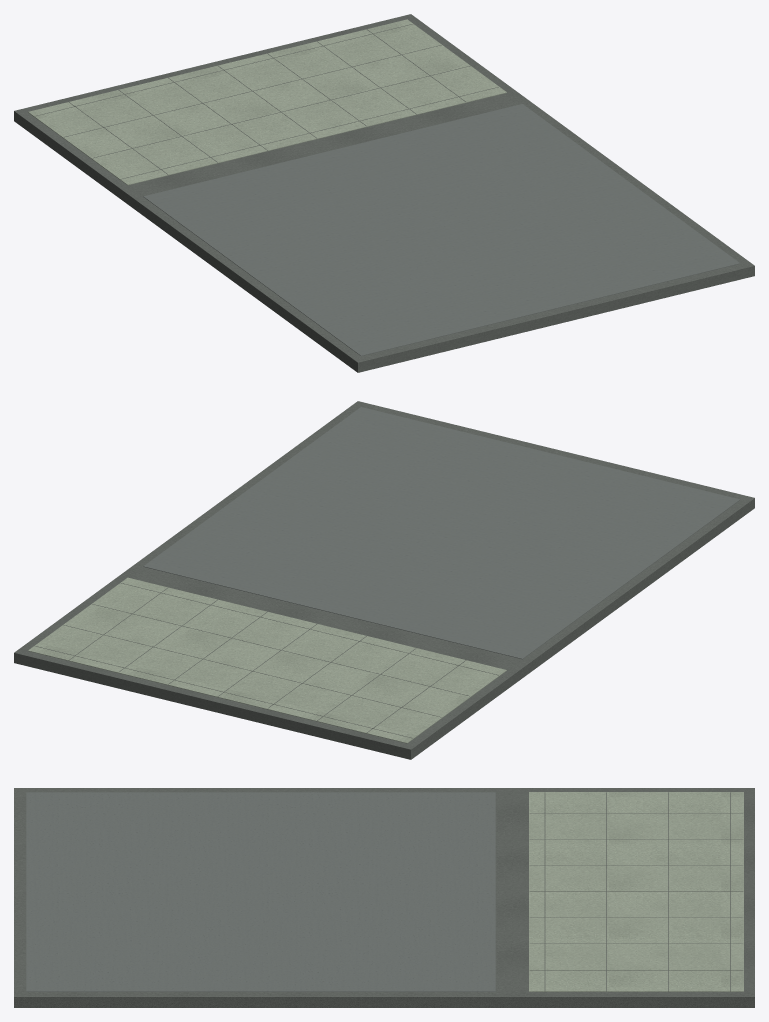
Rendered from room_floor_4x6m_008_v3.glb.
3 views of the same model, one above another, from view 1: azimuth 30°, elevation 25°; view 2: azimuth 150°, elevation 25°; view 3: azimuth 270°, elevation 25° (orthographic). The views are drawn at different scales.
Visible parts, largest first — view 1: INSTANCE__room_floor_4x6m__008; view 2: INSTANCE__room_floor_4x6m__008; view 3: INSTANCE__room_floor_4x6m__008.
Boxes of the visible parts, bbox=[...] form: INSTANCE__room_floor_4x6m__008: bbox=[14, 14, 754, 372]; INSTANCE__room_floor_4x6m__008: bbox=[14, 401, 754, 759]; INSTANCE__room_floor_4x6m__008: bbox=[14, 788, 754, 1007].
Size of the model in its own units: 4 by 0.1065 by 6.
Materials: 3 (3 with a texture image).
